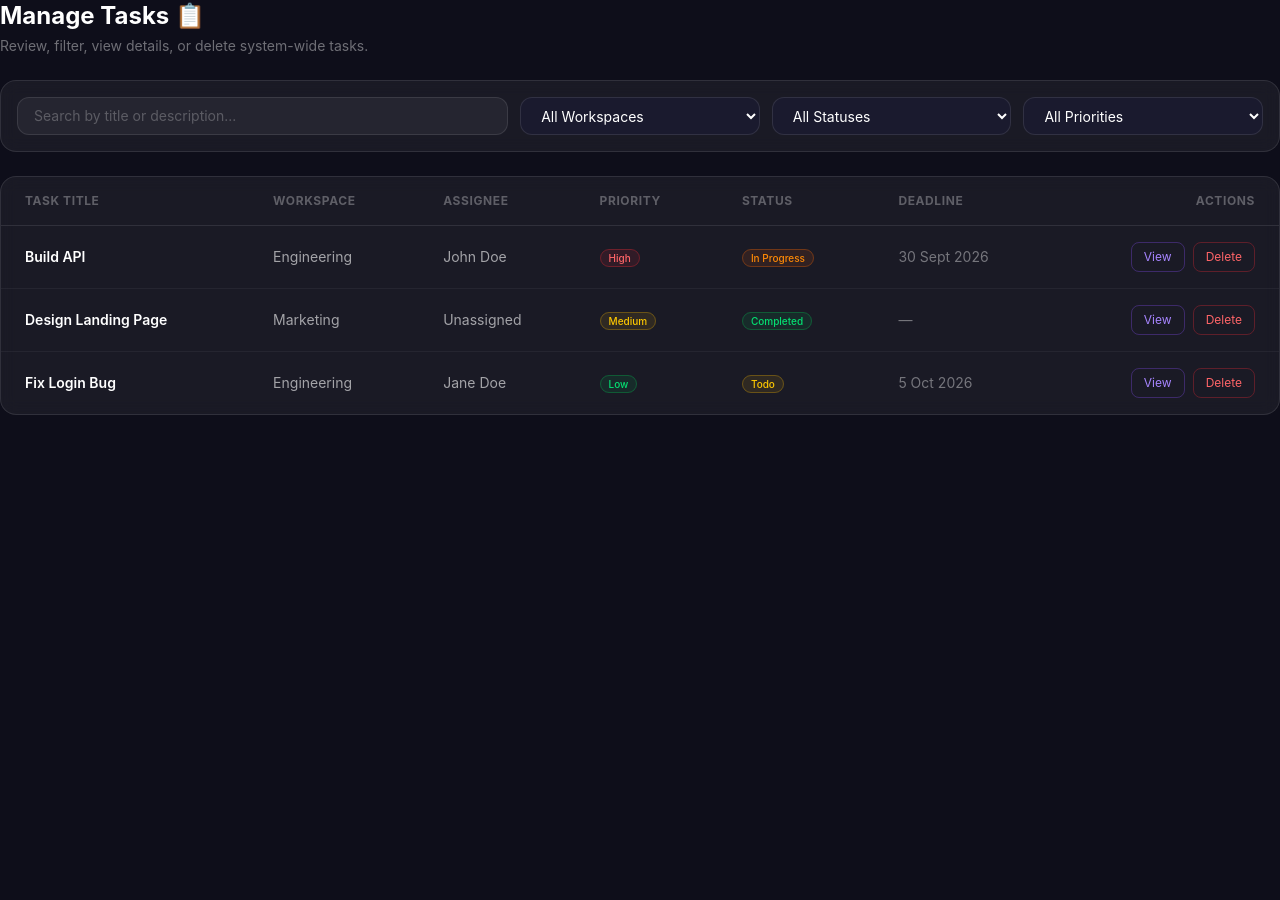
Test: ManageTasks › opens task details modal
This screenshot has width=1280, height=900.
Expected: the text "Build API" is shown, [1,226,249,288]
Click the button "View" in the row of "Build API".
click(1158, 257)  # box [1131,242,1185,272]
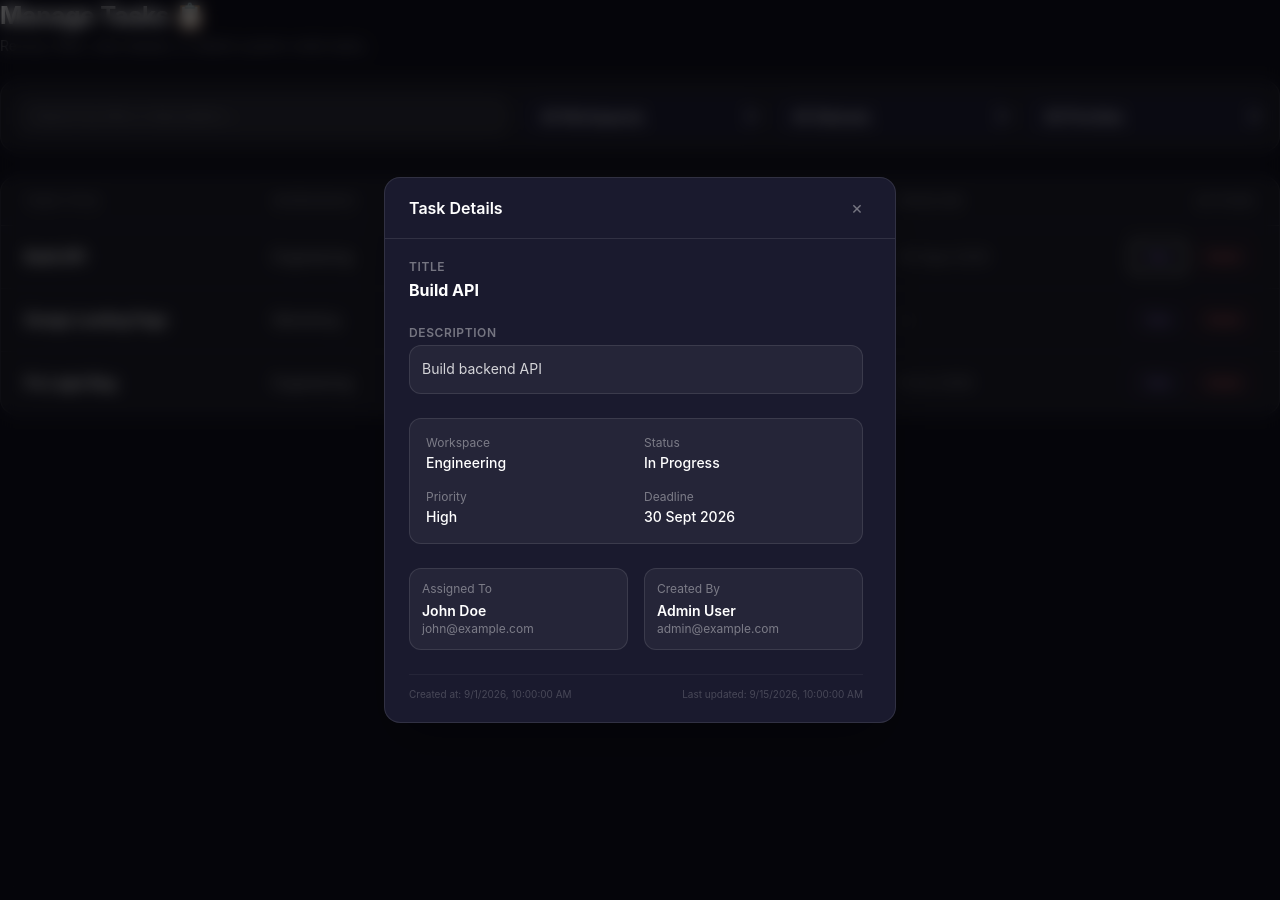
Now the heading "Task Details" is shown, box [409,196,503,220]
Now the text "Build backend API" is shown, box [409,345,863,394]
Now the text "Admin User" is shown, box [657,602,736,619]
